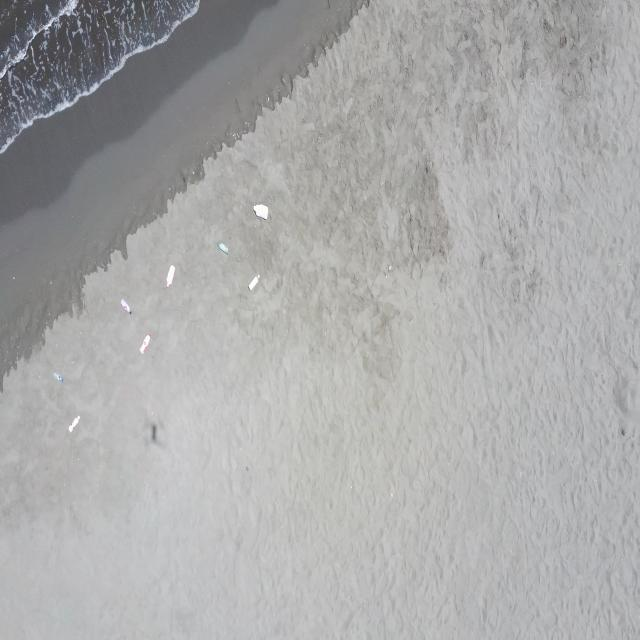plastic-bottle: (252, 202, 270, 221), (67, 414, 82, 433), (140, 333, 152, 355), (166, 264, 176, 288), (248, 274, 260, 292), (120, 298, 132, 316), (52, 370, 66, 384), (218, 242, 229, 256)
